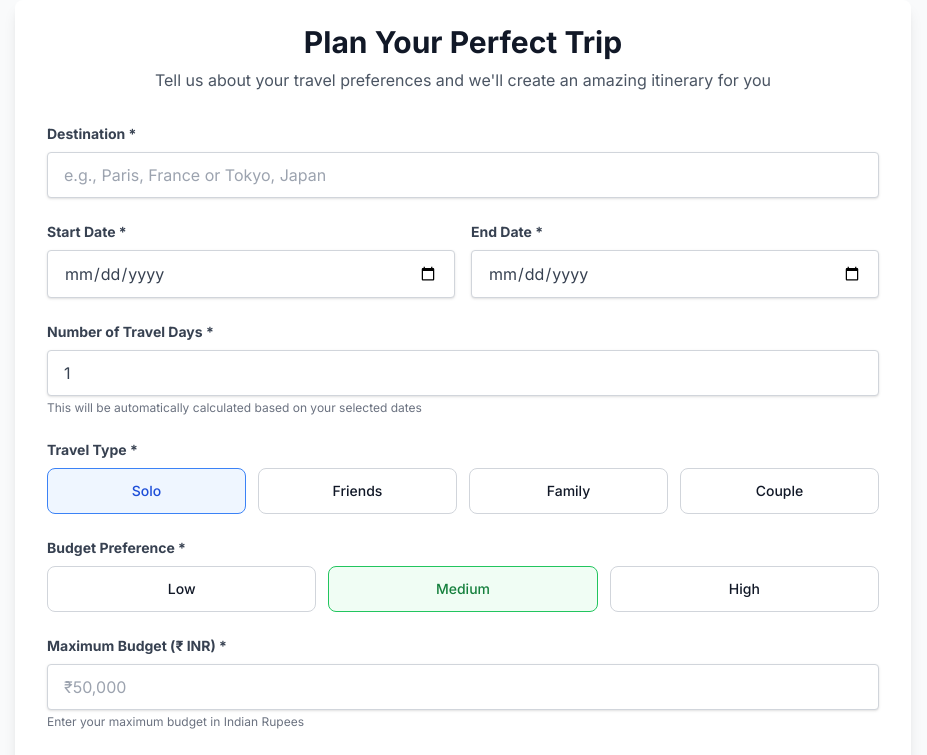
it: TripInputForm › validates destination length
In the field labelled "Destination *": point(463, 175) [47,152,879,198], type "A"
(page scrolled)
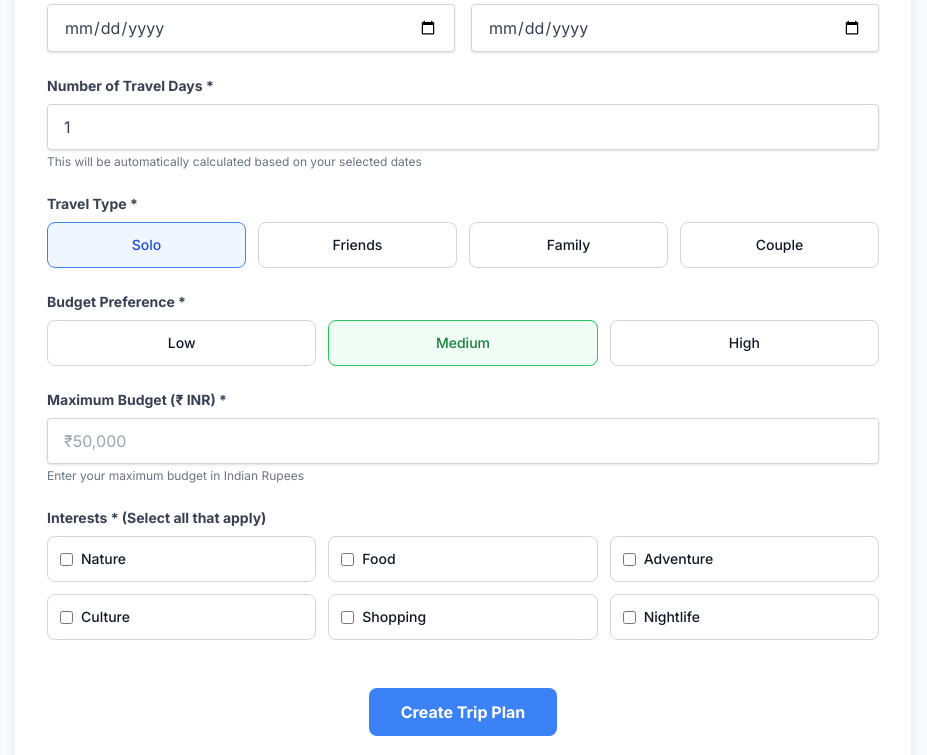
Click the button "Create Trip Plan": point(463, 712) [369,688,557,736]
(page scrolled)
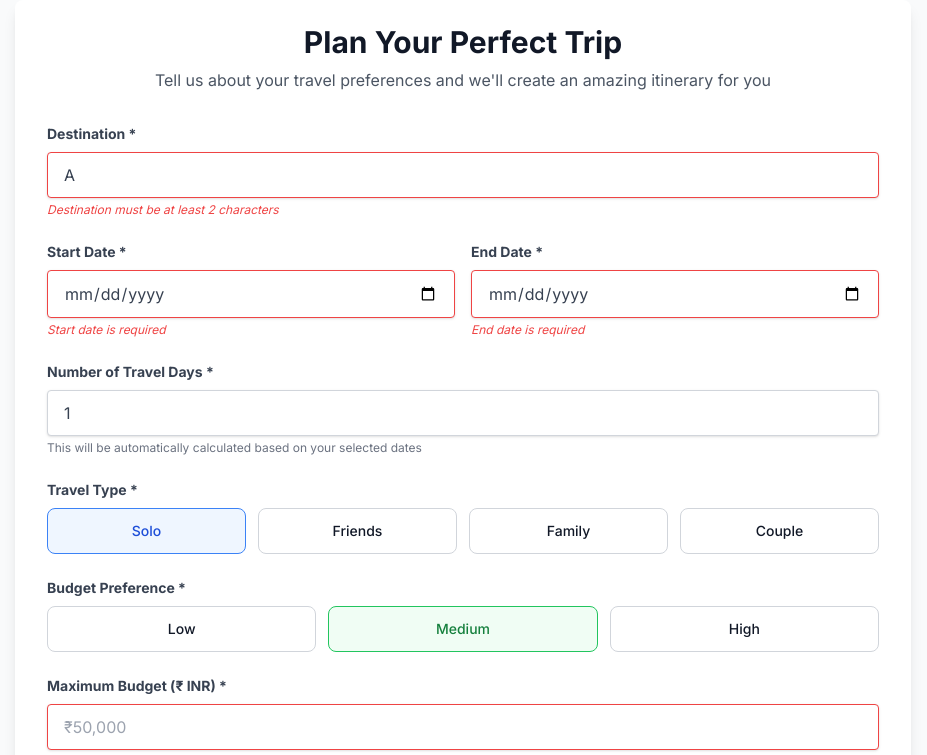
Expected: the text "Destination must be at least 2 characters" is shown, [47,202,279,217]
